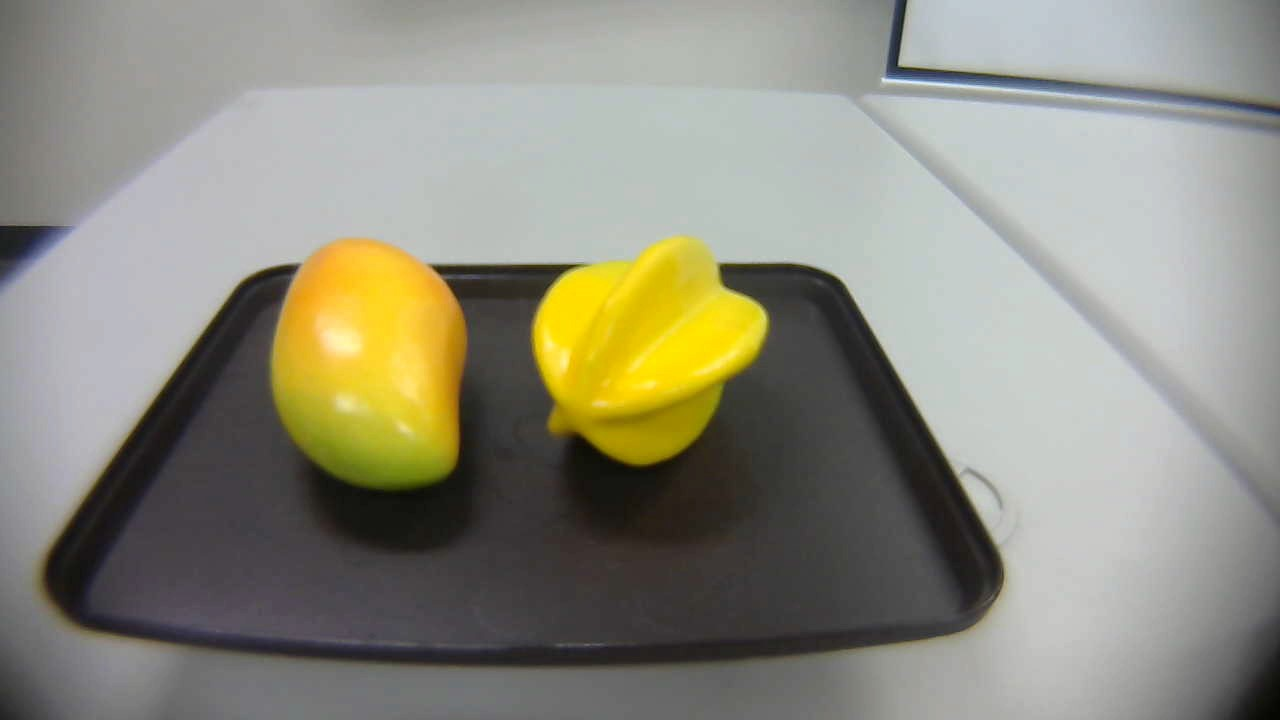star fruit: (520, 234, 780, 480)
yellow mango: (254, 234, 486, 492)
